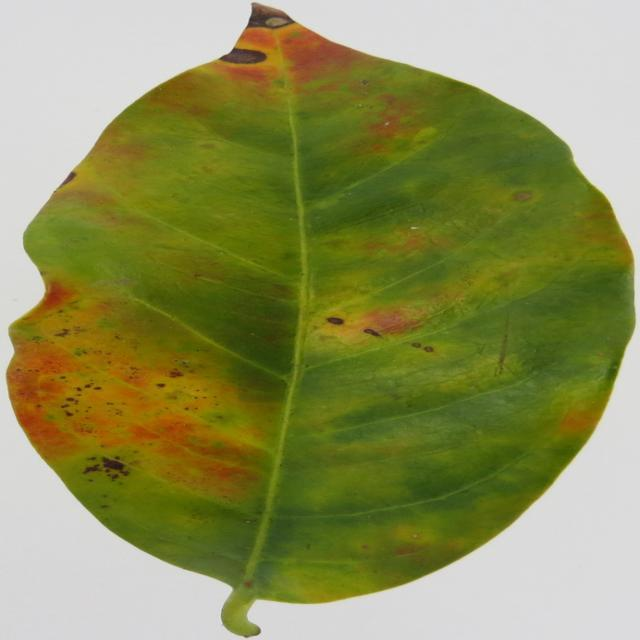DeficienciaNutricional-Fosforo: (8, 4, 631, 636)
